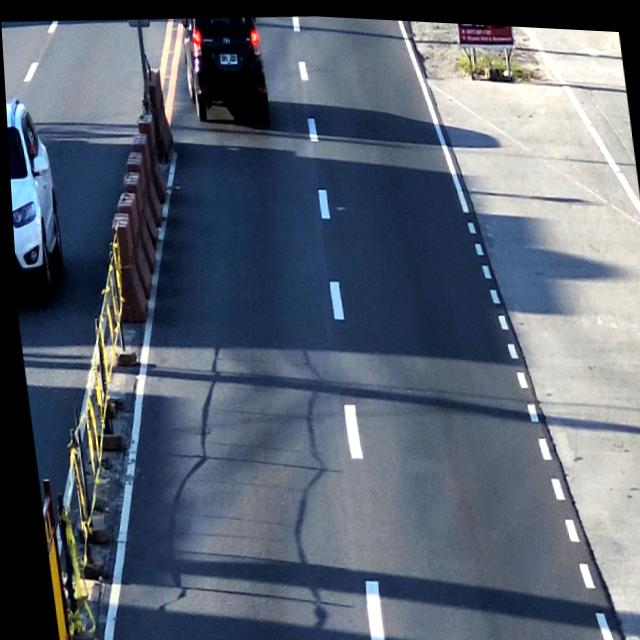Car: (177, 10, 274, 131)
License-Plate: (218, 47, 238, 66)
